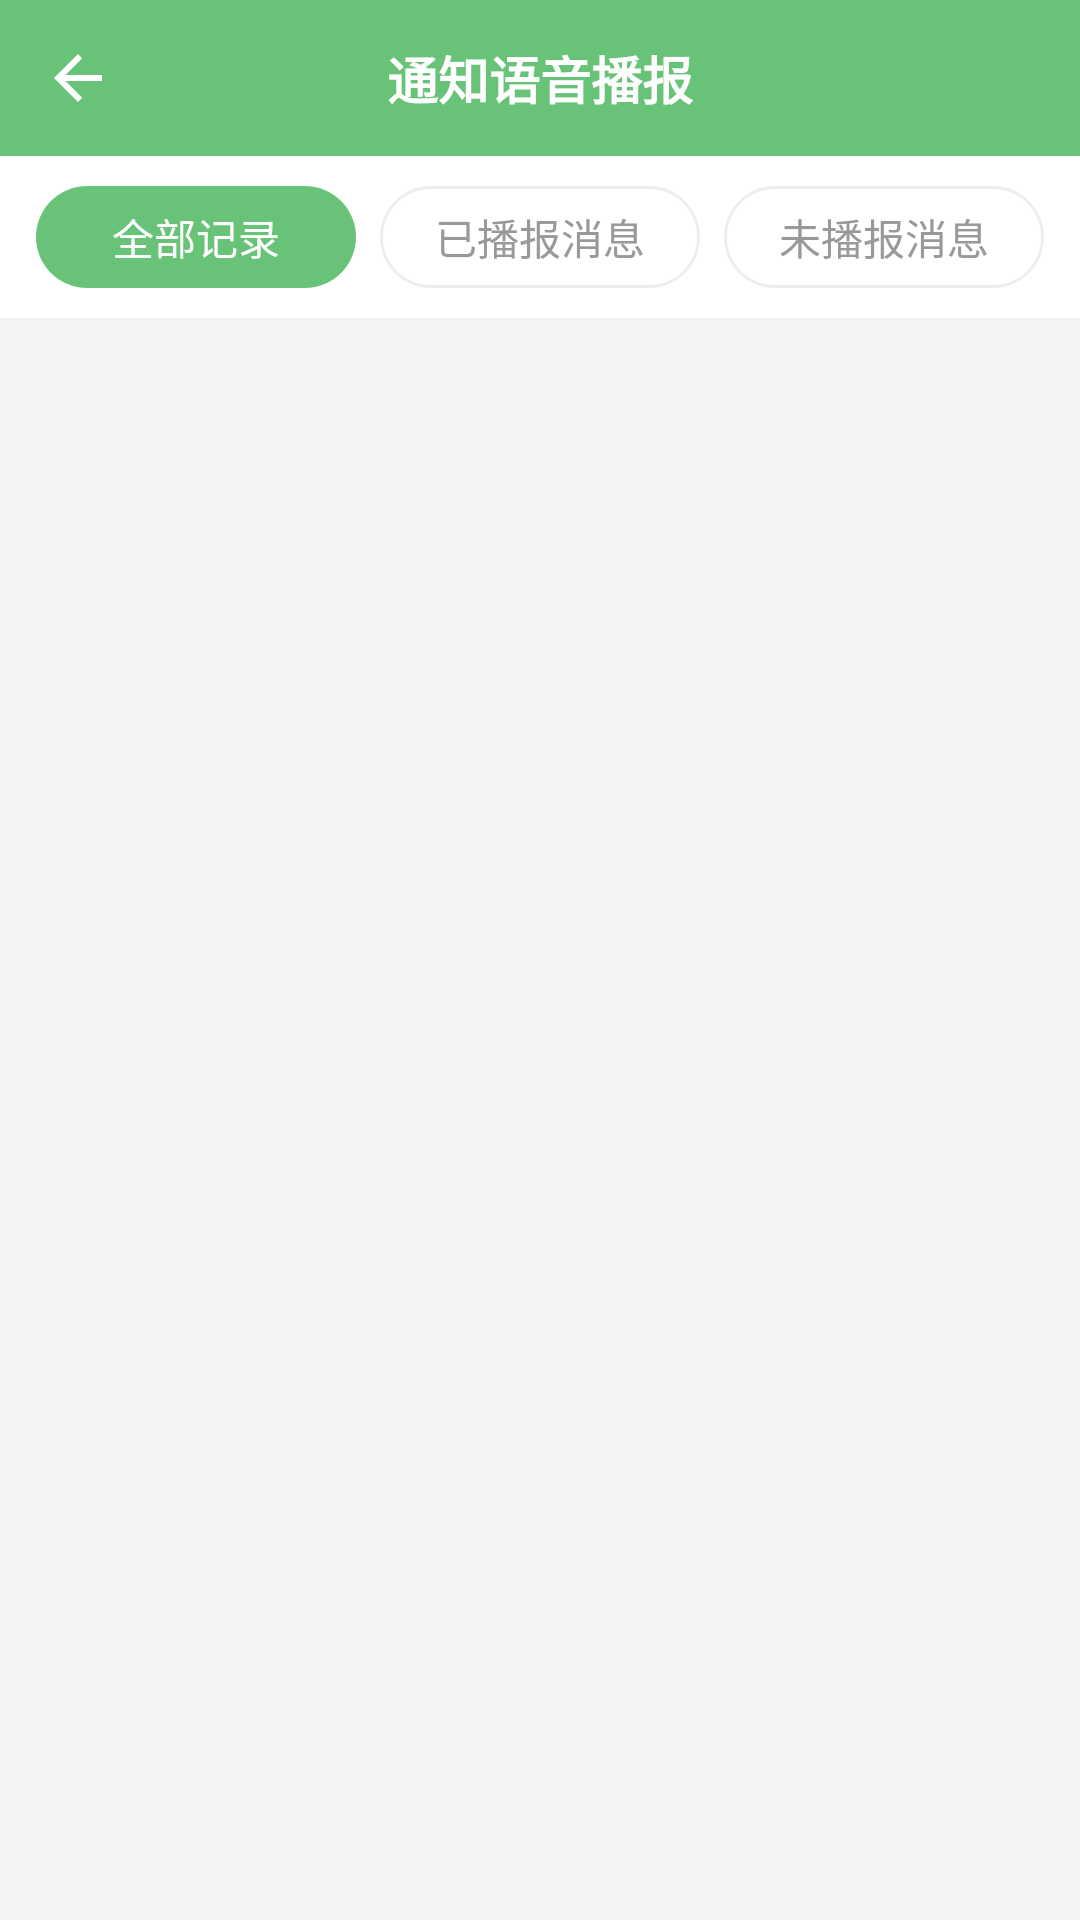

Screen size 1080w x 1920h. Icon name, then its box in pixels as (x1, y1, x2, y2):
back: (54, 54, 102, 102)
